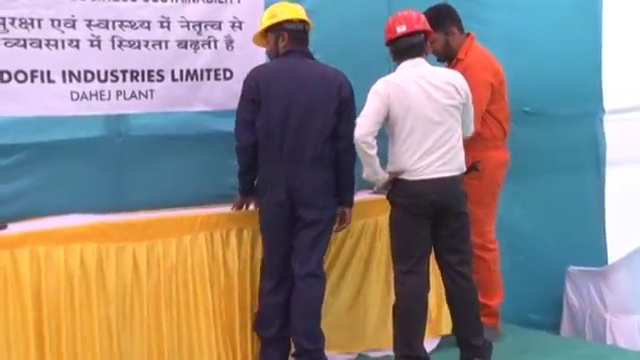helmet: (250, 1, 314, 48), (382, 9, 434, 48)
helmet_off: (427, 6, 473, 64)
helmet_on: (249, 1, 315, 61), (381, 9, 436, 64)
person: (355, 8, 490, 360), (231, 1, 355, 360), (419, 5, 510, 342)
